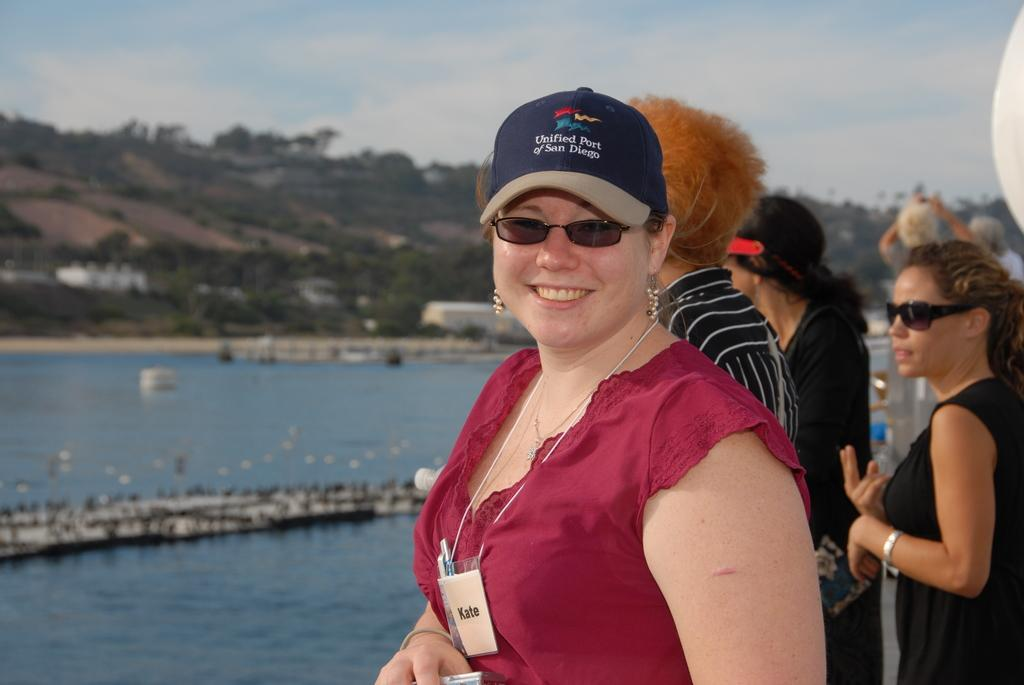Hat: (484, 89, 674, 243)
